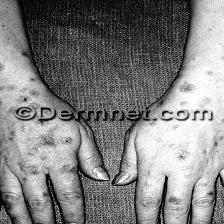Benign Marking or Mole: (34, 129, 73, 148), (15, 159, 44, 178), (172, 149, 191, 162), (197, 96, 214, 108), (0, 60, 10, 77), (180, 82, 197, 92)
